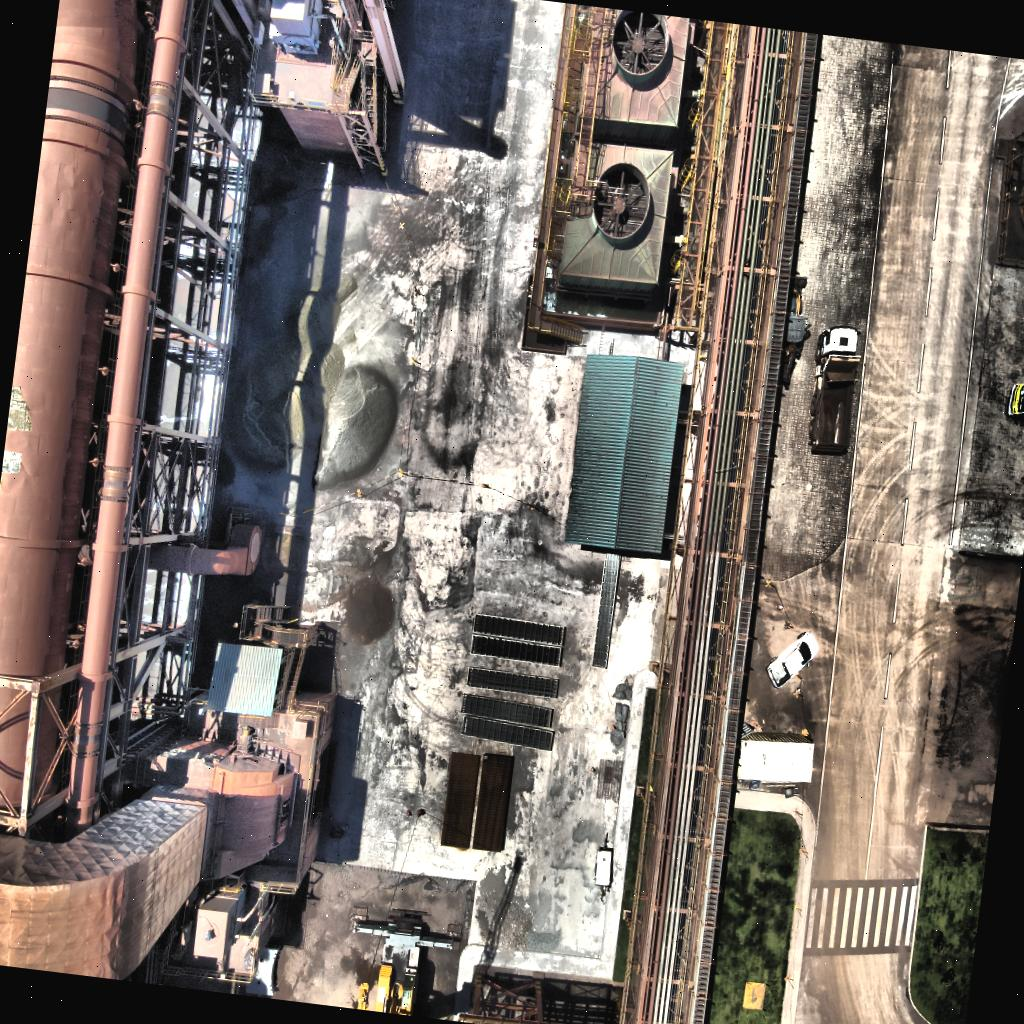Failures: (154, 733, 226, 776), (6, 383, 39, 434), (2, 446, 26, 476)
